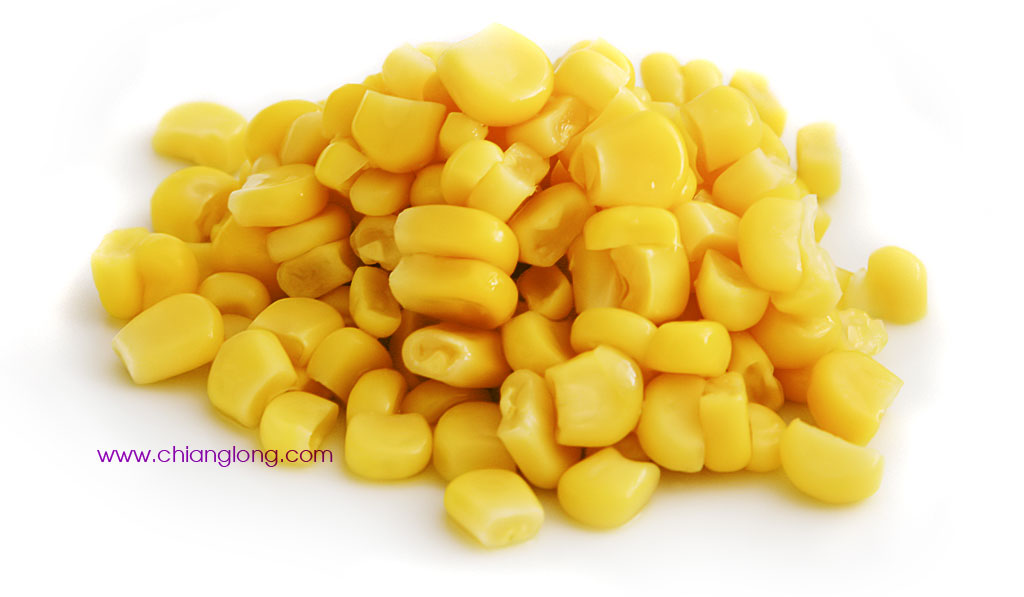corn: (85, 22, 933, 554)
